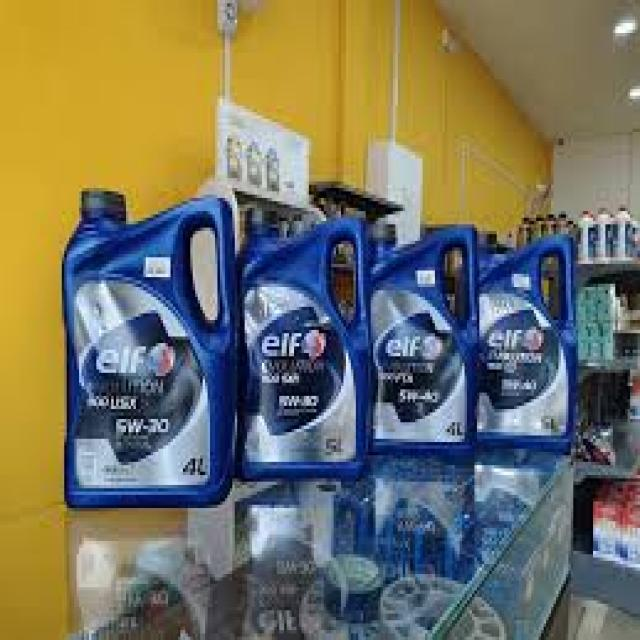motor_oil: (61, 185, 244, 509), (243, 205, 375, 474), (373, 216, 479, 458), (472, 226, 578, 452)
